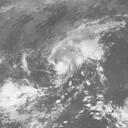cyclone: (48, 29, 103, 79)
